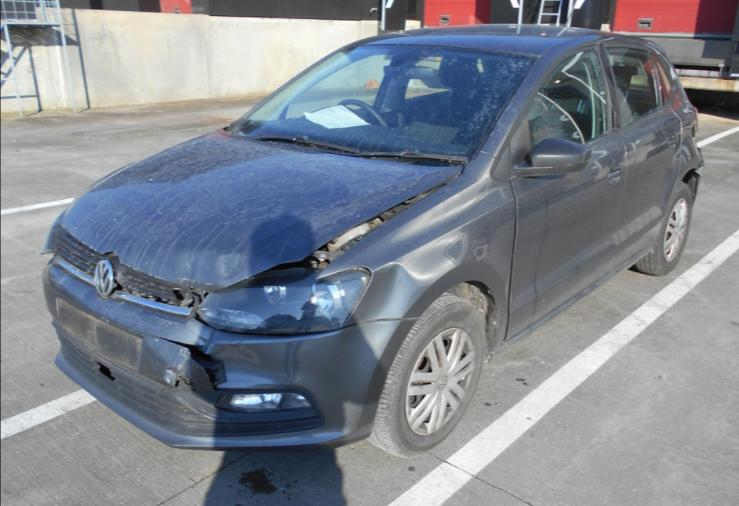Broken part: (38, 250, 419, 449), (222, 164, 465, 288), (51, 228, 207, 324)
Dent: (347, 262, 431, 323), (201, 248, 268, 291), (171, 250, 203, 290)
Missing part: (56, 301, 139, 369)
